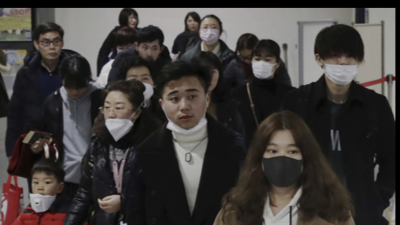mask_weared_incorrect: (164, 84, 208, 128), (104, 98, 134, 132), (31, 174, 58, 201)
with_mask: (258, 139, 305, 189), (322, 48, 360, 87), (125, 70, 156, 103), (251, 51, 277, 79), (199, 21, 220, 46)
without_mask: (37, 34, 64, 59), (137, 41, 161, 62), (63, 82, 88, 98), (238, 48, 255, 66), (186, 16, 200, 32), (127, 12, 139, 27)
